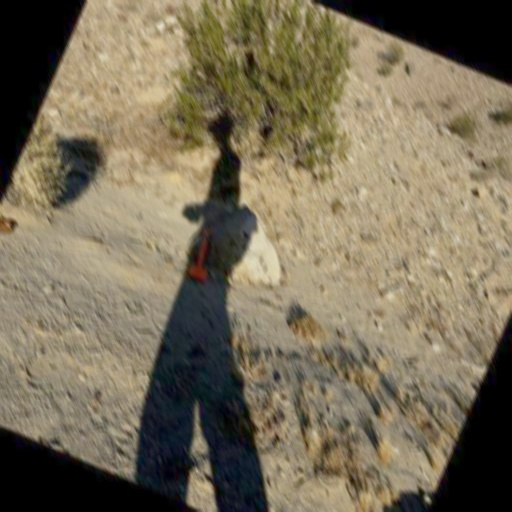mallet: (175, 217, 231, 291)
